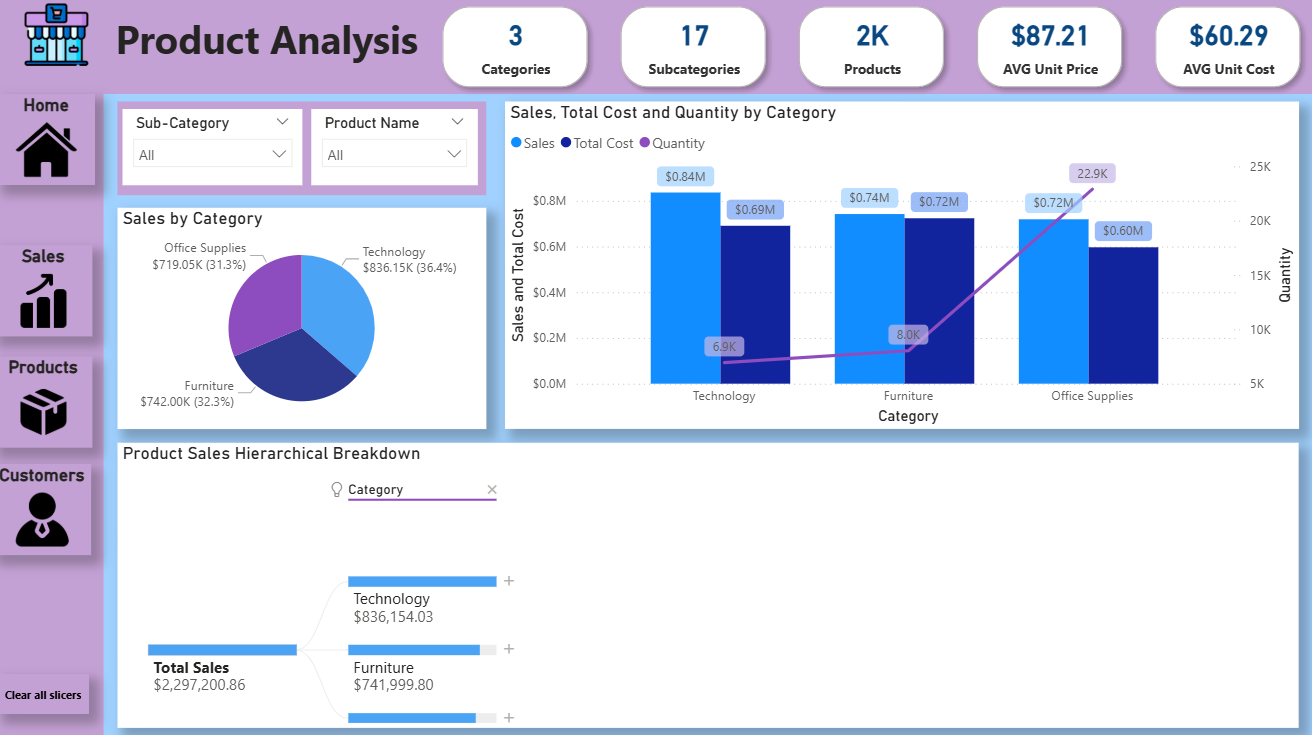

The page's visual inventory and layout, read from the dashboard file:
{"tool":"powerbi","page":{"name":"Product Analysis","canvas":[1280,720],"ordinal":2},"visuals":[{"type":"shape","box":[123.1,103.8,267.8,314.9],"z":0},{"type":"shape","box":[0,0,1280,96.5],"z":1000},{"type":"shape","box":[0,0,109.8,720.2],"z":2000},{"type":"image","title":"Sales","box":[3.1,242.5,95.3,88.1],"z":3000},{"type":"image","title":"Products","box":[3.6,350.1,95.3,88.1],"z":4000},{"type":"image","title":"Customers","box":[2.4,453.8,95.3,88.1],"z":5000},{"type":"actionButton","box":[7.2,656.3,88.1,38.6],"z":6000},{"type":"image","title":"Home","box":[6.8,96.3,94.1,88.1],"z":7000},{"type":"image","box":[27.7,3.6,73.6,71.2],"z":8000},{"type":"textbox","box":[109.8,13.3,314.9,63.9],"z":9000},{"type":"cardVisual","fields":{"Data":["DAXMeasures.Categories","DAXMeasures.Subcategories","DAXMeasures.Products","DAXMeasures.AVGUnitPrice","DAXMeasures.AVGUnitCost"]},"box":[424.7,0,855.4,102.5],"z":10000},{"type":"pieChart","fields":{"Y":["DAXMeasures.Total Sales"],"Category":["DimProducts.Category"]},"box":[850.5,111,412.6,299.2],"z":11000},{"type":"lineClusteredColumnComboChart","fields":{"Y":["DAXMeasures.Total Sales"],"Category":["DimProducts.Category"],"Y2":["DAXMeasures.Total Quantity"]},"box":[401.7,111,429.5,299.2],"z":12000},{"type":"slicer","fields":{"Values":["DimProducts.Category"]},"box":[101.3,103.8,308.8,65.1],"z":13000},{"type":"slicer","fields":{"Values":["DimProducts.Sub-Category"]},"box":[127.9,168.9,257,153.2],"z":14000},{"type":"slicer","fields":{"Values":["DimProducts.Product Name"]},"box":[127.9,330.6,257,79.6],"z":15000},{"type":"decompositionTreeVisual","title":"Product Sales Hierarchical Breakdown","fields":{"ExplainBy":["DimProducts.Product Name","DimProducts.Category","DimProducts.Sub-Category"],"Analyze":["DAXMeasures.Total Sales"]},"box":[123.1,428.3,1141.3,275.1],"z":16000}]}

Visuals, with their boxes in screenshot pixels (x1, y1, x2, y2), scaled from the page's 1280x720 canvas onto the 1312x735 screenshot:
shape: pyautogui.locateOnScreen(126, 106, 401, 427)
shape: pyautogui.locateOnScreen(0, 0, 1311, 99)
shape: pyautogui.locateOnScreen(0, 0, 113, 734)
"Sales" image: pyautogui.locateOnScreen(3, 248, 101, 337)
"Products" image: pyautogui.locateOnScreen(4, 357, 101, 447)
"Customers" image: pyautogui.locateOnScreen(2, 463, 100, 553)
actionButton: pyautogui.locateOnScreen(7, 670, 98, 709)
"Home" image: pyautogui.locateOnScreen(7, 98, 103, 188)
image: pyautogui.locateOnScreen(28, 4, 104, 76)
textbox: pyautogui.locateOnScreen(113, 14, 435, 79)
cardVisual - DAXMeasures.Categories x DAXMeasures.Subcategories: pyautogui.locateOnScreen(435, 0, 1311, 105)
pieChart - DAXMeasures.Total Sales x DimProducts.Category: pyautogui.locateOnScreen(872, 113, 1295, 419)
lineClusteredColumnComboChart - DAXMeasures.Total Sales x DimProducts.Category: pyautogui.locateOnScreen(412, 113, 852, 419)
slicer - DimProducts.Category: pyautogui.locateOnScreen(104, 106, 420, 172)
slicer - DimProducts.Sub-Category: pyautogui.locateOnScreen(131, 172, 395, 329)
slicer - DimProducts.Product Name: pyautogui.locateOnScreen(131, 337, 395, 419)
"Product Sales Hierarchical Breakdown" decompositionTreeVisual: pyautogui.locateOnScreen(126, 437, 1296, 718)
